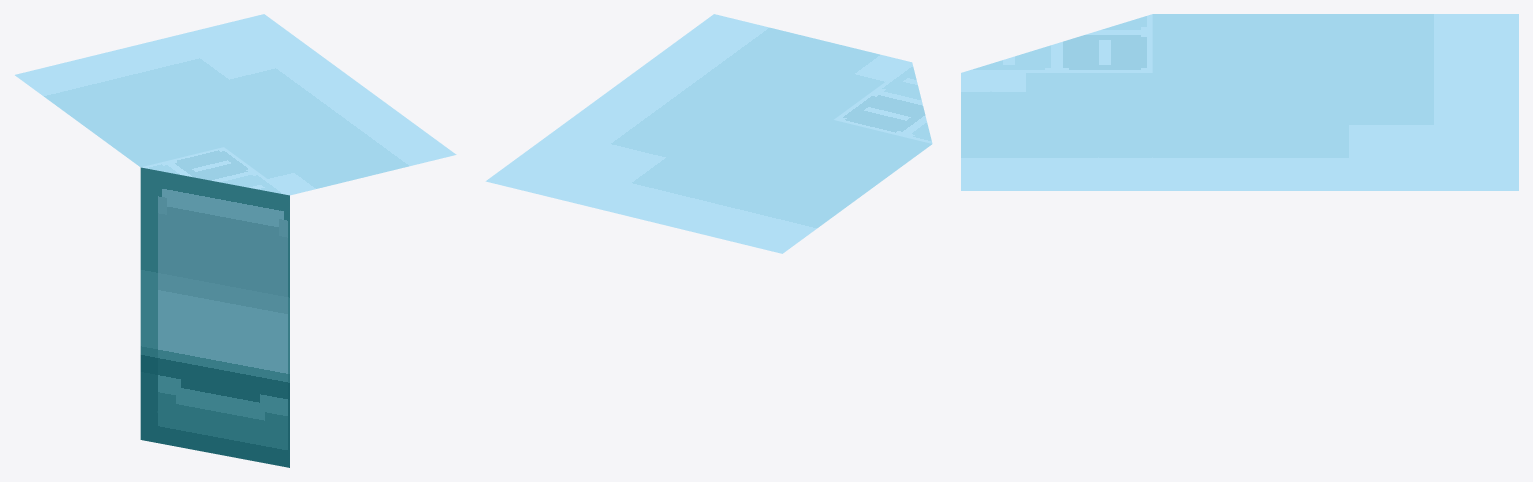
File: hgss-centre-b1-mur-nord-raccord-est.glb
3 renders of one model, left to right at view 1: azimuth 30°, elevation 25°; view 2: azimuth 150°, elevation 25°; view 3: azimuth 270°, elevation 25°, orthographic. The views are drawn at different scales.
Size of the model in its own units: 3 by 3.12 by 4.
2 materials, 2 textured.
